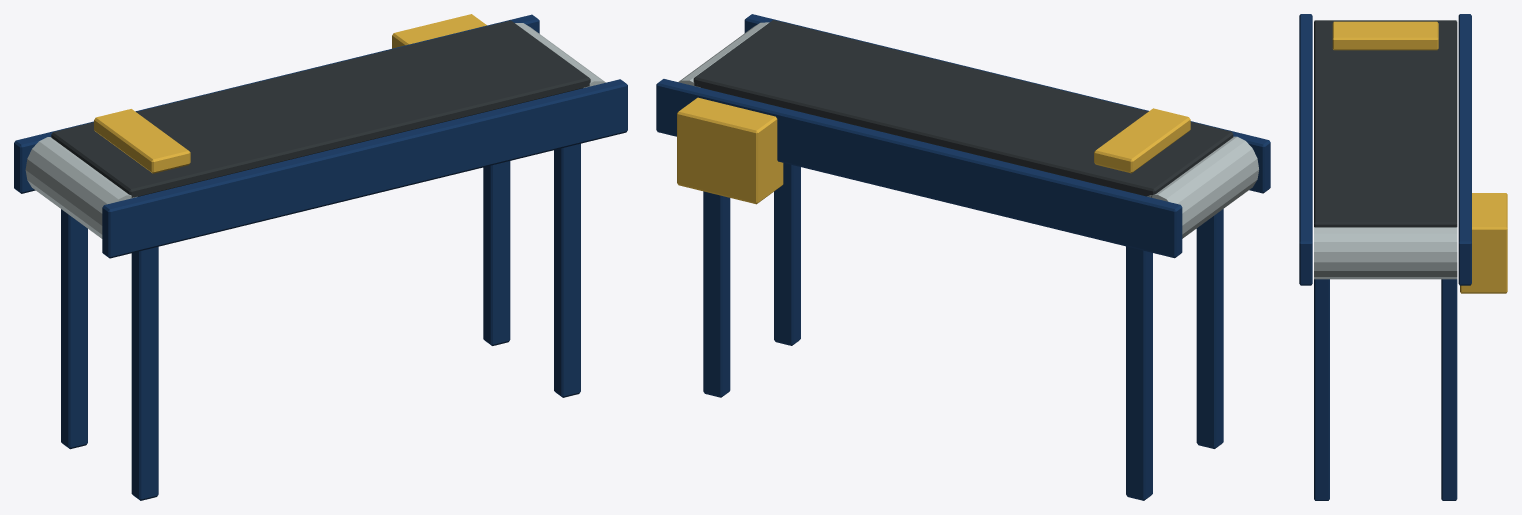
The picture shows the model from 3 angles, left to right: view 1: azimuth 30°, elevation 25°; view 2: azimuth 150°, elevation 25°; view 3: azimuth 270°, elevation 25°; orthographic projection. The views are drawn at different scales.
Visible parts, largest first — view 1: Belt and carriers, Frame and motor, Trestles, Return rollers; view 2: Belt and carriers, Frame and motor, Trestles, Return rollers; view 3: Belt and carriers, Frame and motor, Return rollers, Trestles.
Part boxes in pixels (bbox=[...]): Belt and carriers: bbox=[51, 20, 590, 197]; Frame and motor: bbox=[14, 14, 627, 258]; Trestles: bbox=[61, 143, 580, 500]; Return rollers: bbox=[25, 23, 605, 238]; Belt and carriers: bbox=[693, 20, 1233, 197]; Frame and motor: bbox=[656, 14, 1270, 258]; Trestles: bbox=[703, 163, 1223, 500]; Return rollers: bbox=[678, 22, 1258, 238]; Belt and carriers: bbox=[1314, 20, 1457, 227]; Frame and motor: bbox=[1299, 14, 1507, 293]; Return rollers: bbox=[1314, 20, 1457, 279]; Trestles: bbox=[1314, 279, 1457, 500].
Bounding box in the file's own units: 2.65 × 1.6 × 1.02.
Materials: 1 (1 with a texture image).
